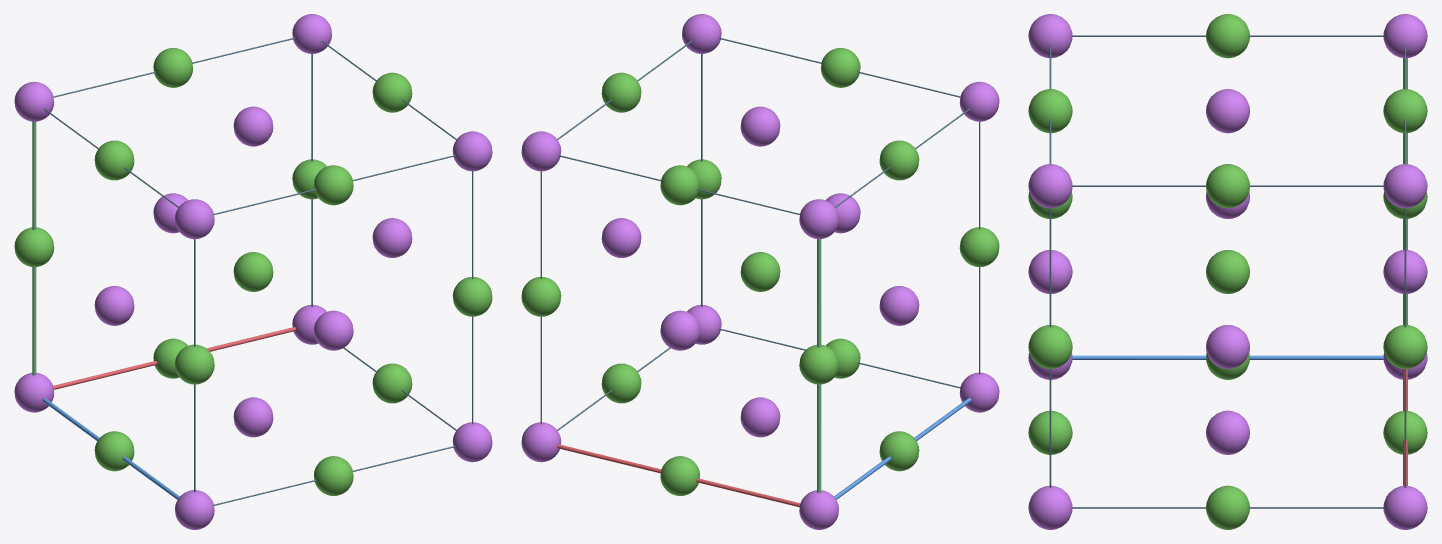
Rendered from chat-lithium-chloride.glb.
The picture shows the model from 3 angles, left to right: view 1: azimuth 30°, elevation 25°; view 2: azimuth 150°, elevation 25°; view 3: azimuth 270°, elevation 25°; orthographic projection. The views are drawn at different scales.
Visible parts, largest first — view 1: Li · Li · 1 (×14), Cl · Cl · 1 (×13), Ô mạng và các trục a, b, c; view 2: Li · Li · 1 (×14), Cl · Cl · 1 (×13), Ô mạng và các trục a, b, c; view 3: Li · Li · 1 (×13), Cl · Cl · 1 (×13), Ô mạng và các trục a, b, c.
Boxes of the visible parts, x1,y1,x2,y2 form: Li · Li · 1 (×14): [14, 14, 492, 529]; Cl · Cl · 1 (×13): [14, 48, 492, 495]; Ô mạng và các trục a, b, c: [32, 37, 473, 505]; Li · Li · 1 (×14): [521, 14, 999, 529]; Cl · Cl · 1 (×13): [521, 48, 999, 495]; Ô mạng và các trục a, b, c: [540, 37, 980, 507]; Li · Li · 1 (×13): [1028, 14, 1427, 529]; Cl · Cl · 1 (×13): [1028, 14, 1427, 529]; Ô mạng và các trục a, b, c: [1049, 35, 1407, 508].
Bounding box in the file's own units: 5.77 × 5.77 × 5.77.
